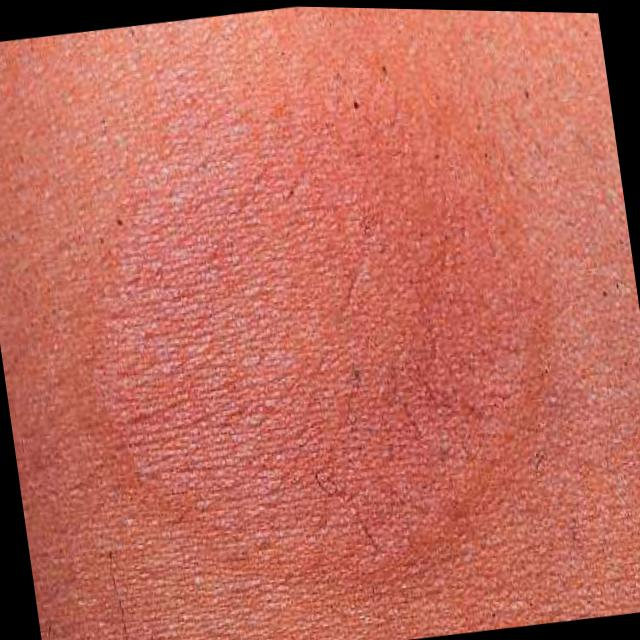Erythema marginatum: (50, 64, 601, 640)
